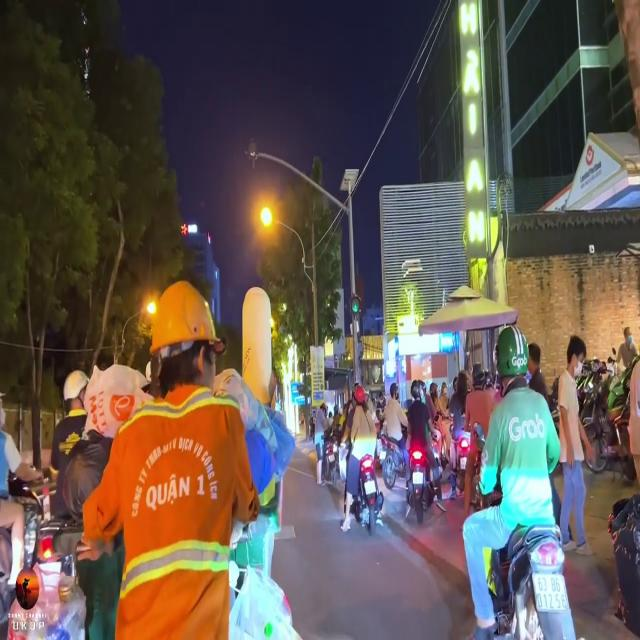bien_trang: (528, 571, 571, 615)
